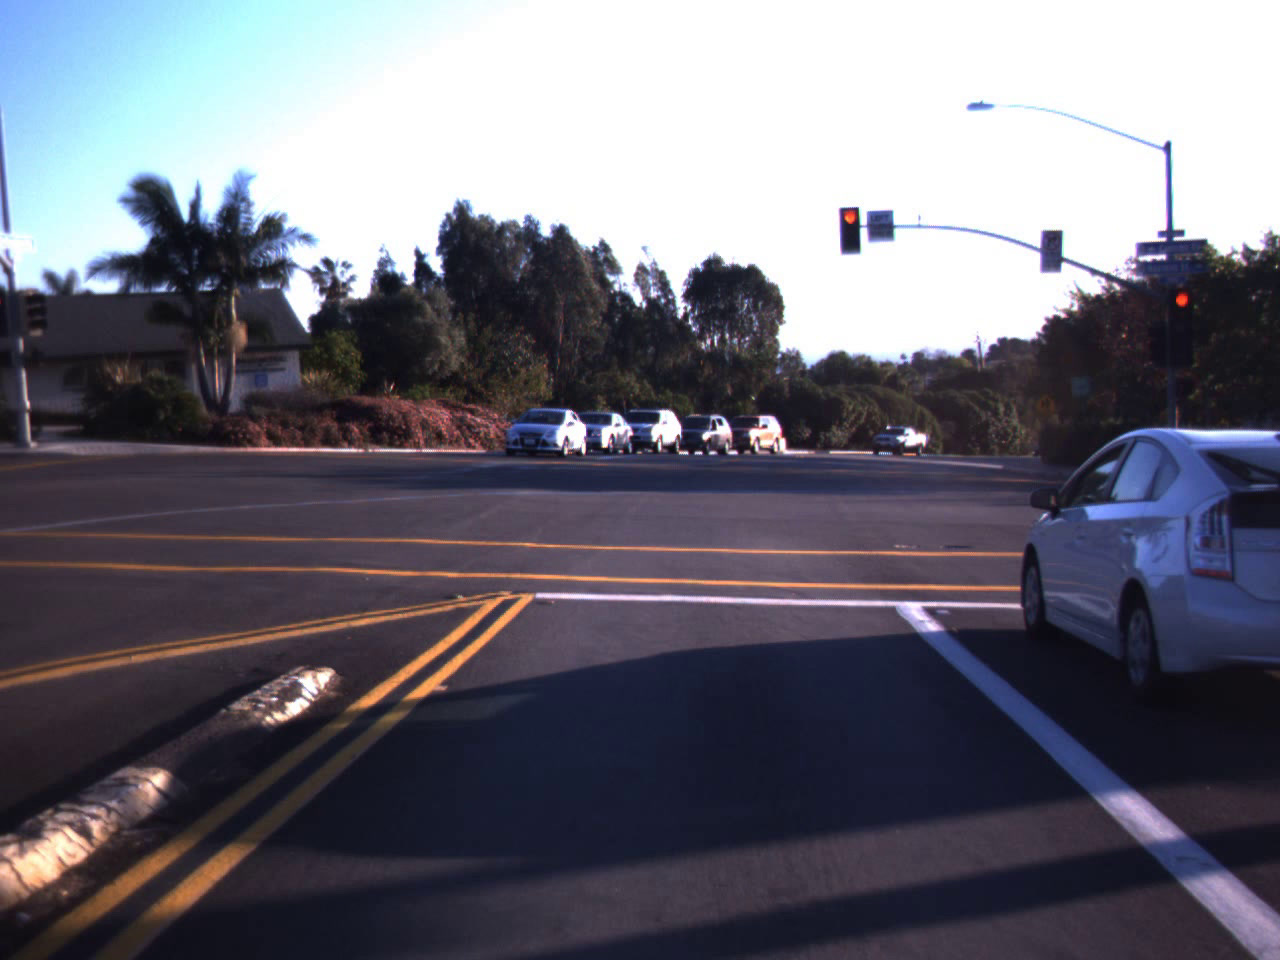stop: (1164, 288, 1200, 342), (835, 206, 865, 260)
